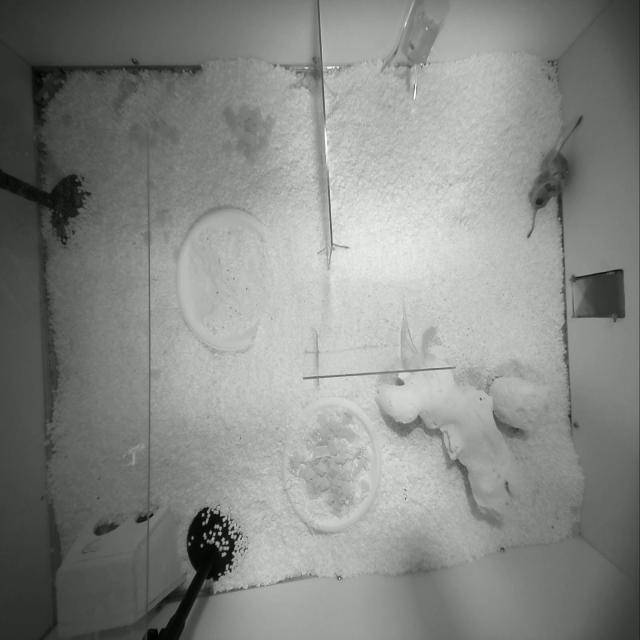pup_fluffy: (548, 115, 582, 190)
pup_spotted: (527, 180, 562, 240)
